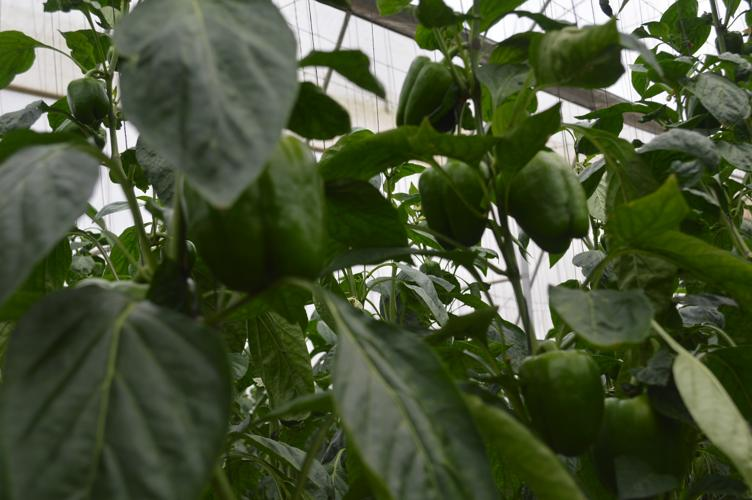BellPepper: (173, 129, 332, 289), (503, 145, 609, 265), (513, 344, 614, 463), (414, 161, 496, 253), (393, 53, 470, 136), (62, 67, 110, 129)
